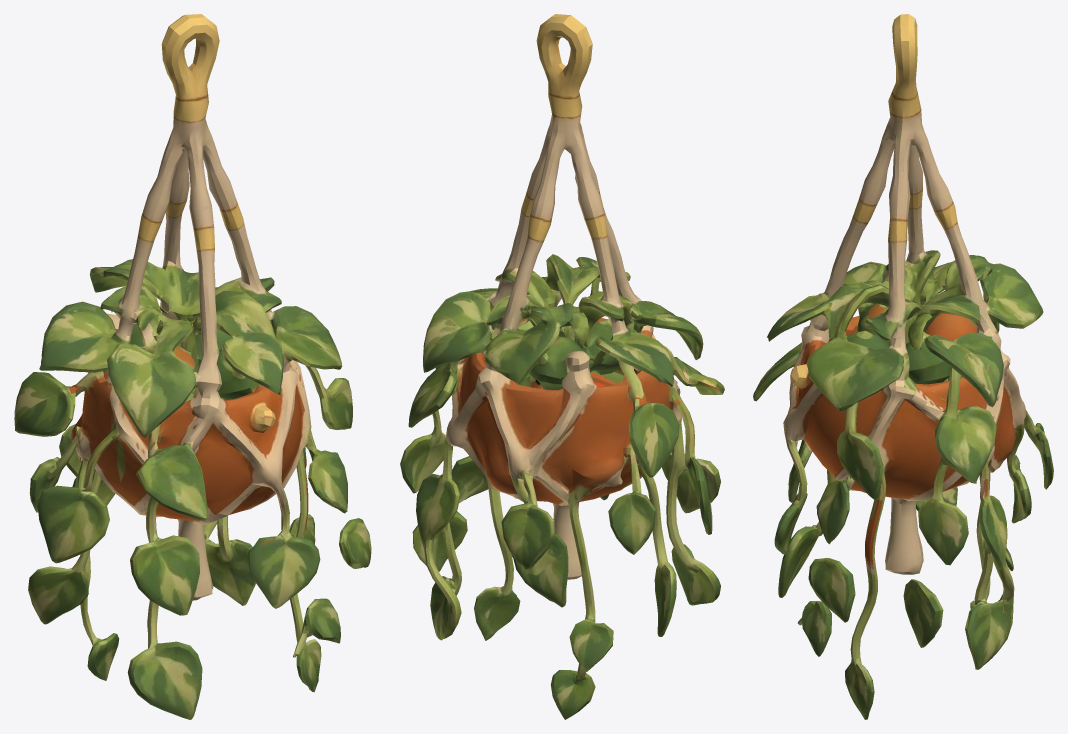
File: Meshy_AI_model.glb
The picture shows the model from 3 angles, left to right: view 1: azimuth 30°, elevation 25°; view 2: azimuth 150°, elevation 25°; view 3: azimuth 270°, elevation 25°; orthographic projection. The views are drawn at different scales.
Visible parts, largest first — view 1: Mesh0; view 2: Mesh0; view 3: Mesh0.
Boxes of the visible parts, x1,y1,x2,y2 form: Mesh0: [14, 14, 371, 719]; Mesh0: [400, 14, 724, 719]; Mesh0: [753, 14, 1053, 719].
Size of the model in its own units: 0.8632 by 1.89 by 0.7871.
Materials: 1 (1 with a texture image).
